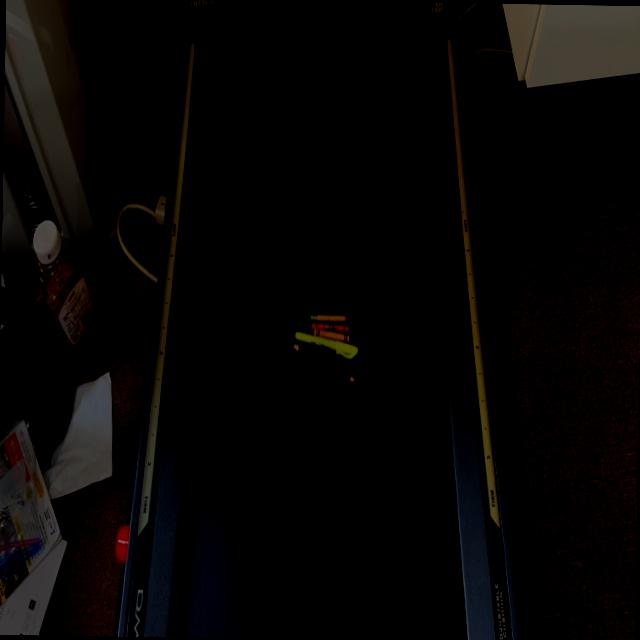Trash: (290, 342, 357, 385), (294, 328, 358, 358), (314, 328, 354, 343), (310, 311, 353, 324), (309, 321, 355, 333)
